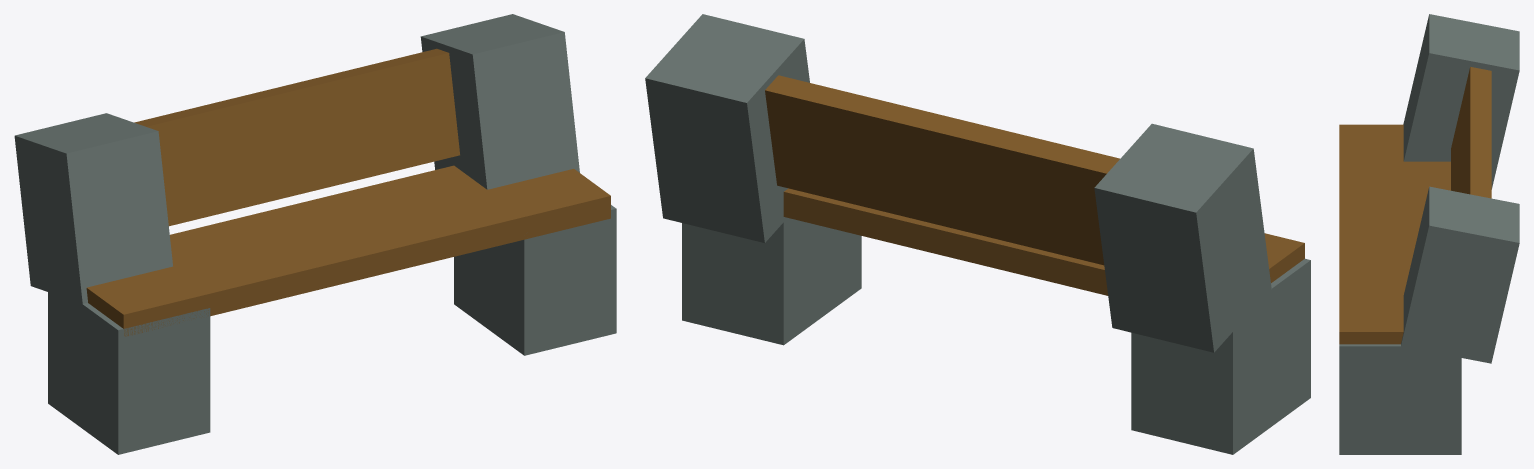
Rendered from SM_Banco_v0_LOD1.fbx.
3 views of the same model, side by side, from view 1: azimuth 30°, elevation 25°; view 2: azimuth 150°, elevation 25°; view 3: azimuth 270°, elevation 25° (orthographic). The views are drawn at different scales.
Visible parts, largest first — view 1: SM_urbano_v10_LOD1; view 2: SM_urbano_v10_LOD1; view 3: SM_urbano_v10_LOD1.
Boxes of the visible parts, x1,y1,x2,y2 form: SM_urbano_v10_LOD1: (14, 14, 616, 454); SM_urbano_v10_LOD1: (645, 14, 1310, 454); SM_urbano_v10_LOD1: (1339, 14, 1519, 454).
Size of the model in its own units: 1.84 by 0.9299 by 0.6633.
